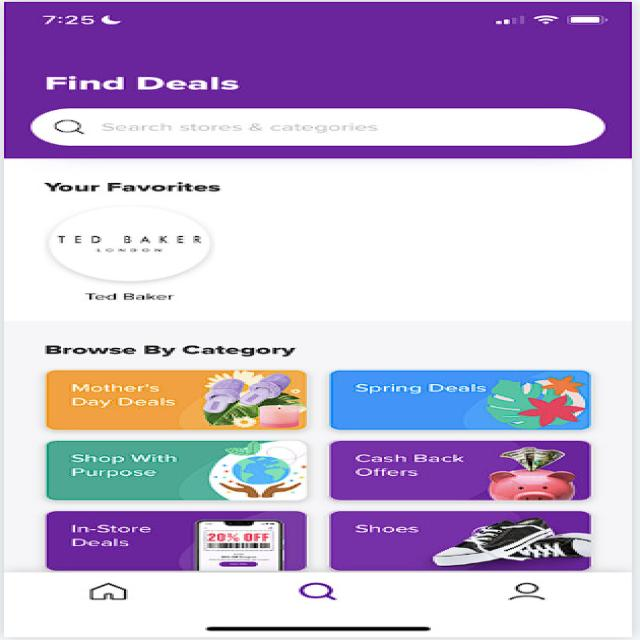column: (328, 326, 640, 573), (18, 328, 326, 577)
icon button: (50, 580, 168, 610), (280, 577, 366, 609), (503, 579, 572, 611)
image: (18, 202, 242, 309)
input: (24, 95, 614, 159)
row: (15, 435, 612, 508), (35, 364, 593, 432), (18, 511, 614, 571)
text: (18, 170, 254, 197), (35, 71, 258, 98)
